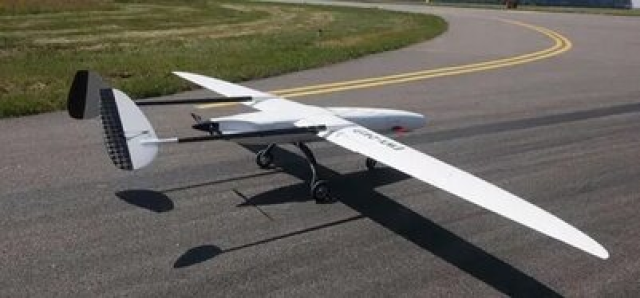military drone: (66, 69, 610, 261)
